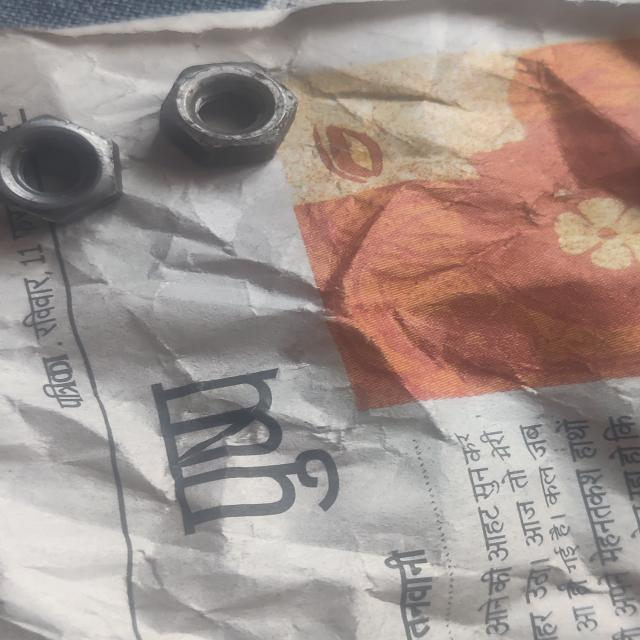disinfected nut: (160, 62, 297, 168), (0, 115, 120, 222)
